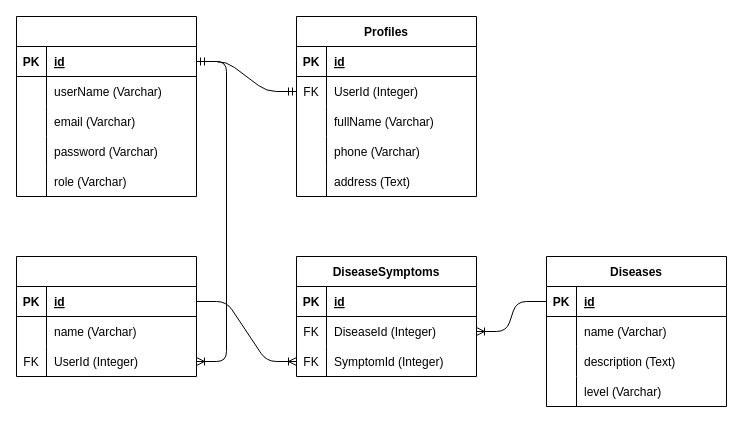
This 743x423 diagram has some shape labels left out. Here are the shapes that lost their labels. From the top down, the box of each, then its label:
(16, 16, 196, 196): Users
(16, 256, 196, 376): Symptoms
